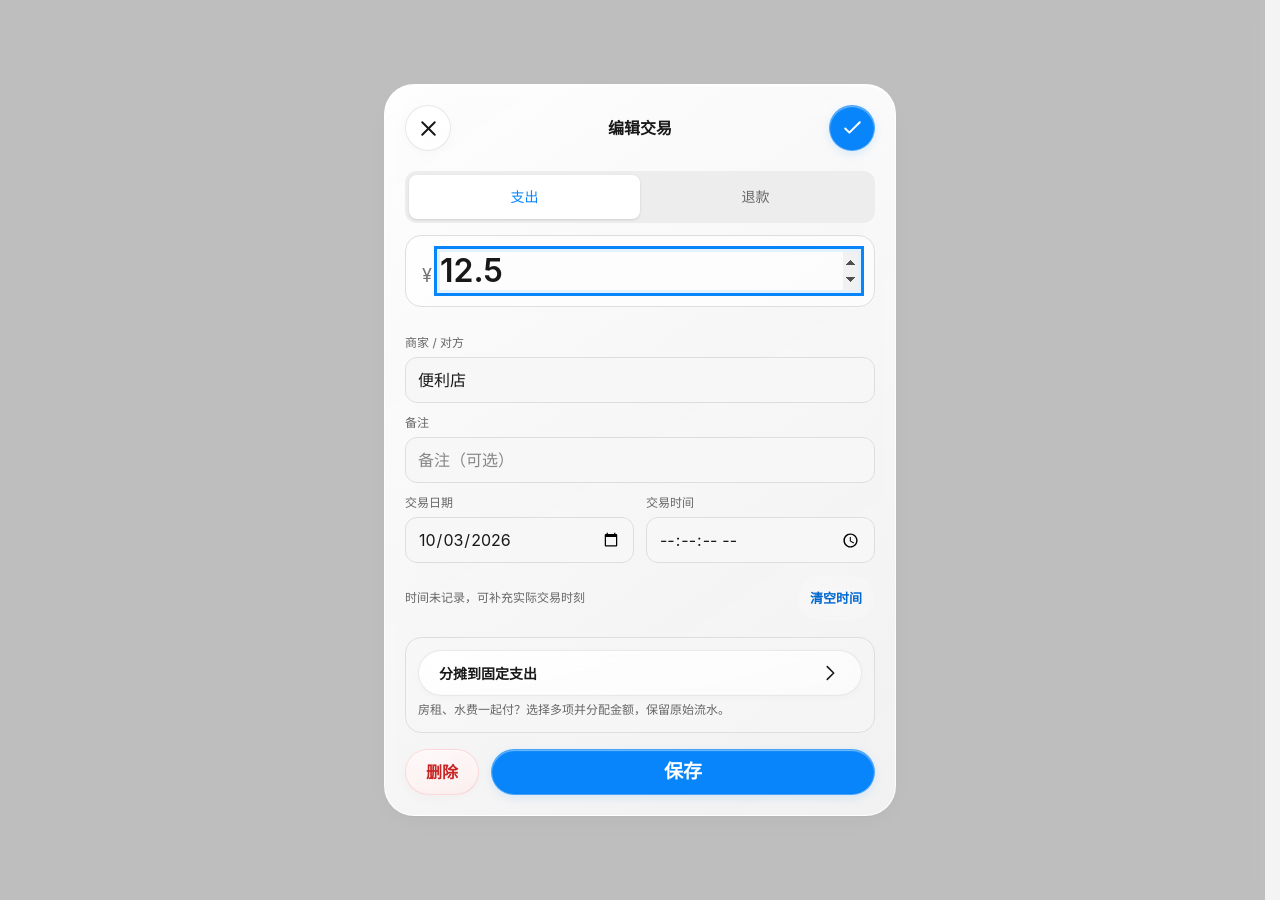
Test case: QuickAdd 秒级时间 › 已有交易可以独立打开分摊，未保存交易修改时提示先保存
This screenshot has width=1280, height=900.
Replace the text in the number field named "金额（元）" with "30" at (649, 271), box [440,252,858,290]
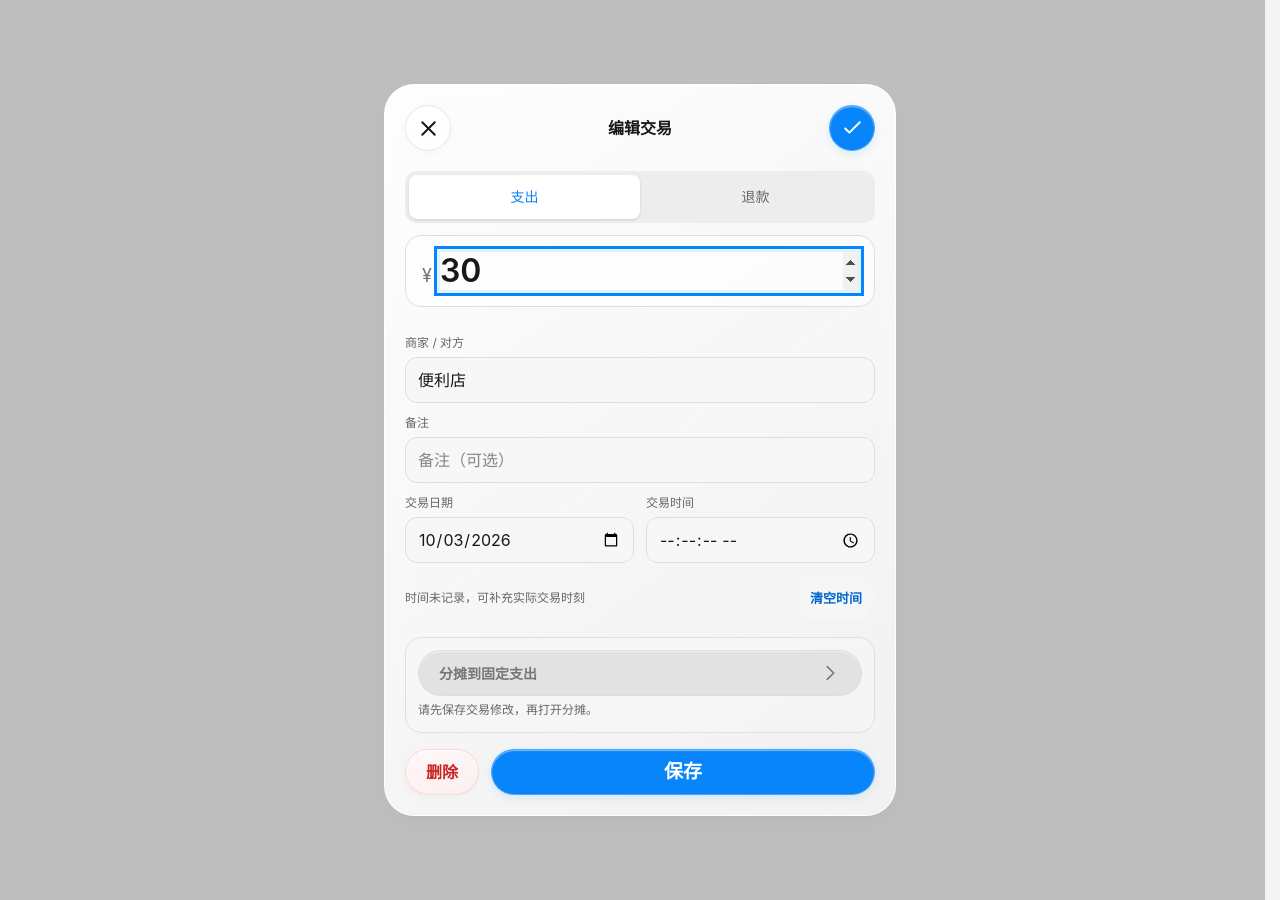
Now the button "分摊到固定支出" is disabled, box [418,650,862,696]
Now the text "请先保存交易修改，再打开分摊。" is shown, box [418,702,598,717]
Replace the text in the number field named "金额（元）" with "12.5" at (649, 271), box [440,252,858,290]
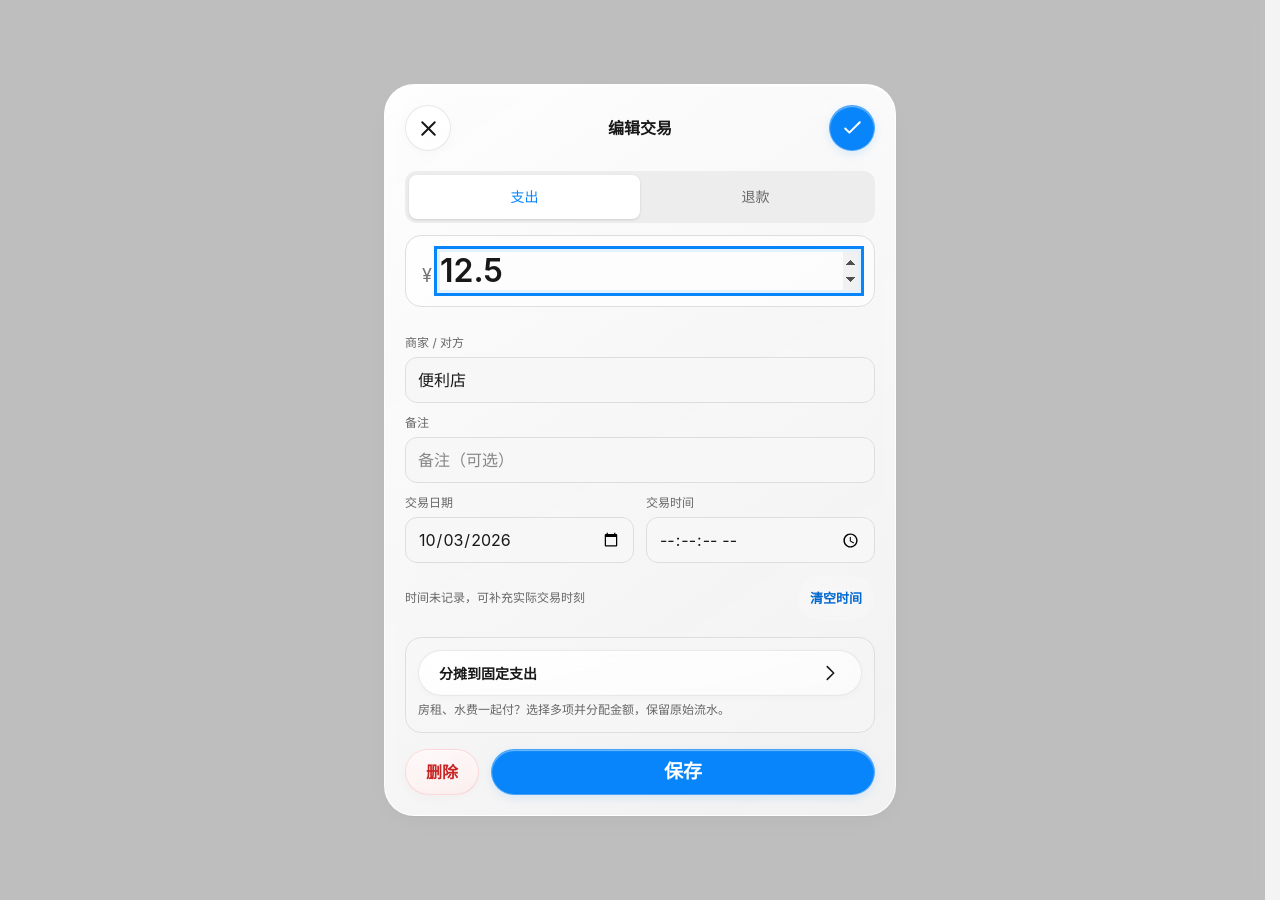
Click the button "分摊到固定支出" at (488, 673), box [418,650,862,696]
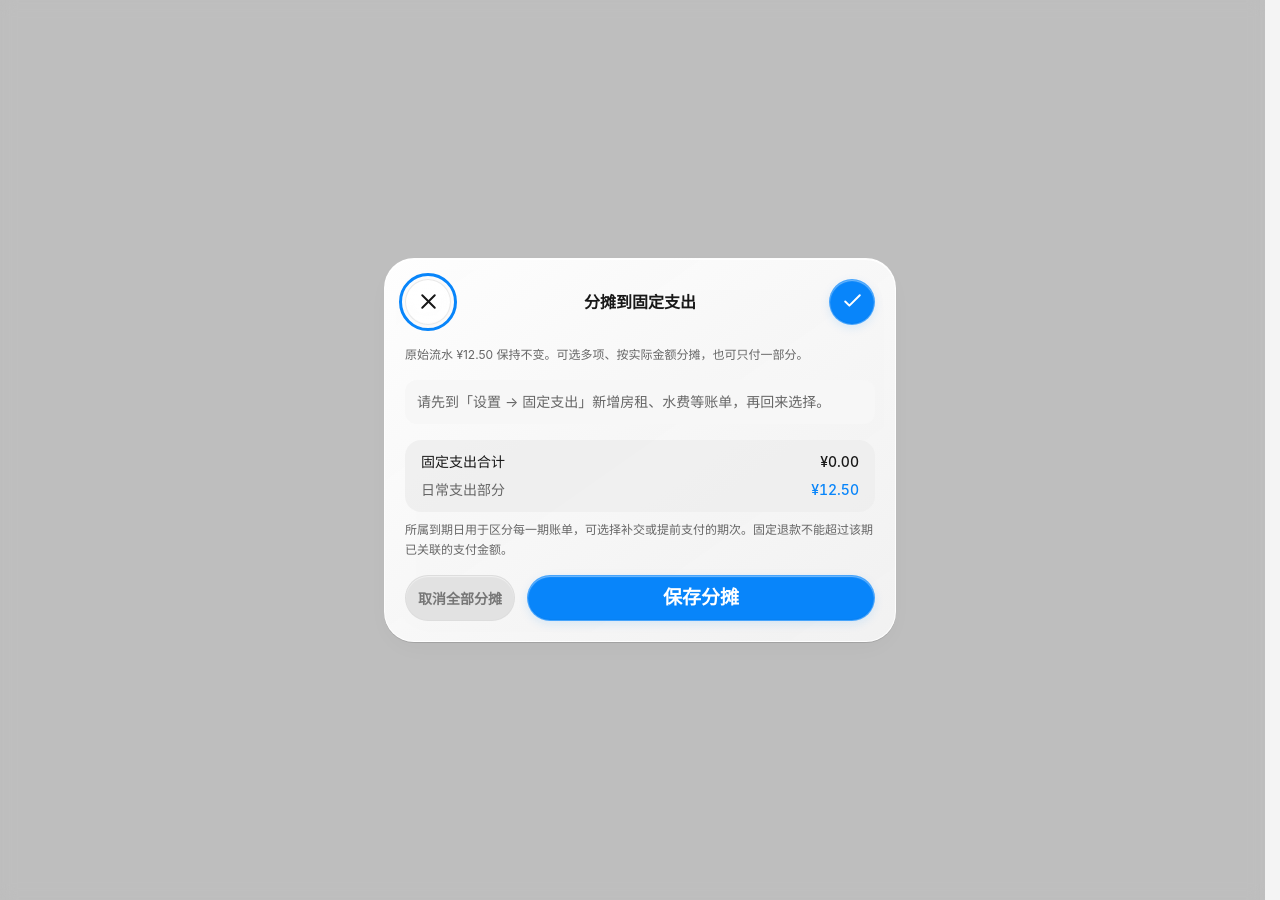
Expected: the dialog "分摊到固定支出" is shown, [384,258,896,642]
Click the button named "关闭分摊" at (428, 302), box [405,279,451,325]
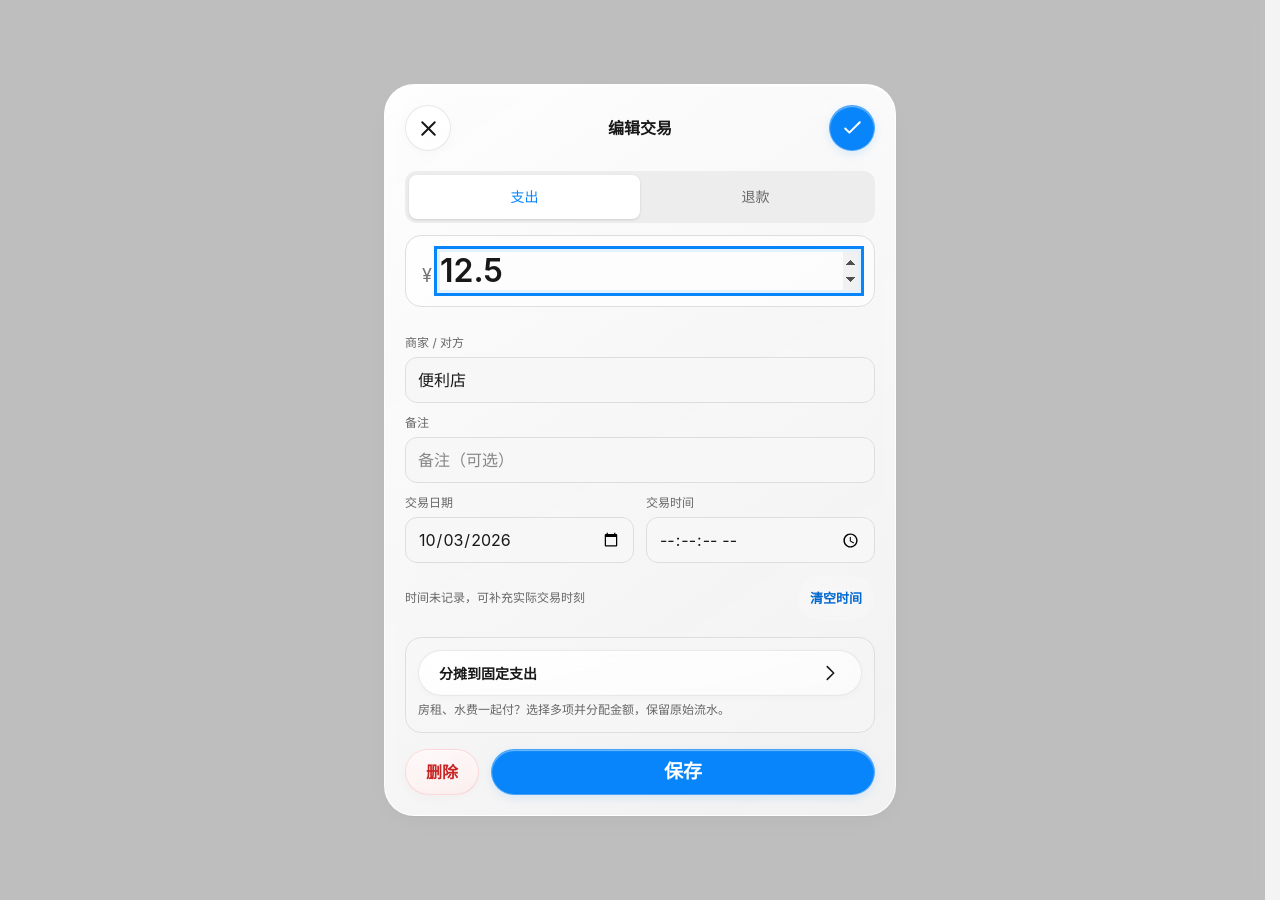
Now the dialog "编辑交易" is shown, box [384,84,896,816]
